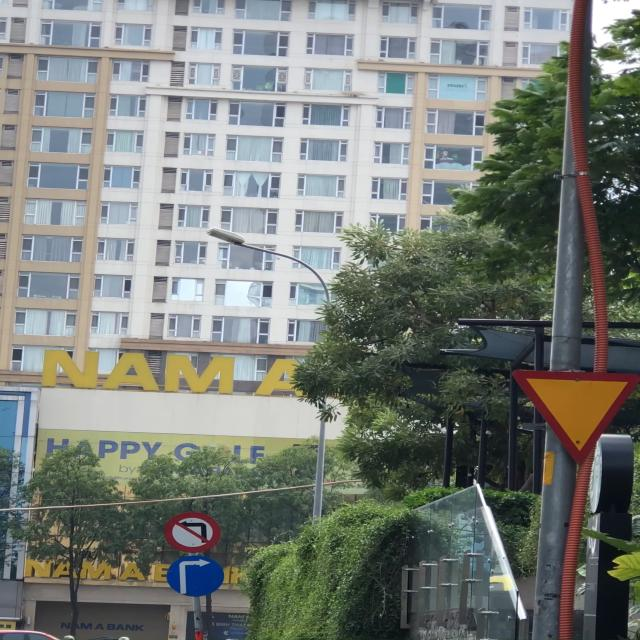Bien bao cam re trai: (163, 511, 225, 555)
Bien bao giao nhau voi duong uu tien: (505, 362, 640, 463)
Bien bao huong di phai theo: (162, 554, 229, 602)
